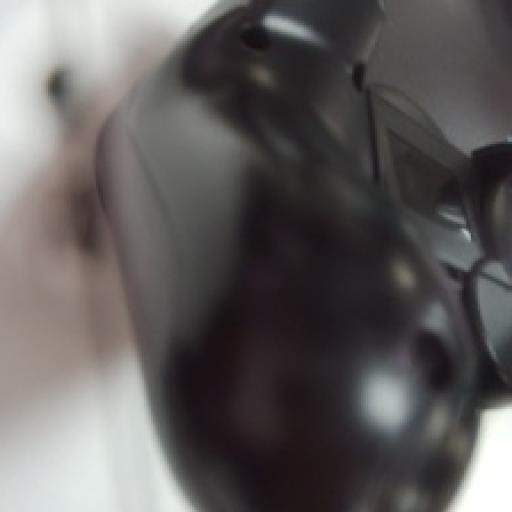game pad: (98, 0, 510, 510)
